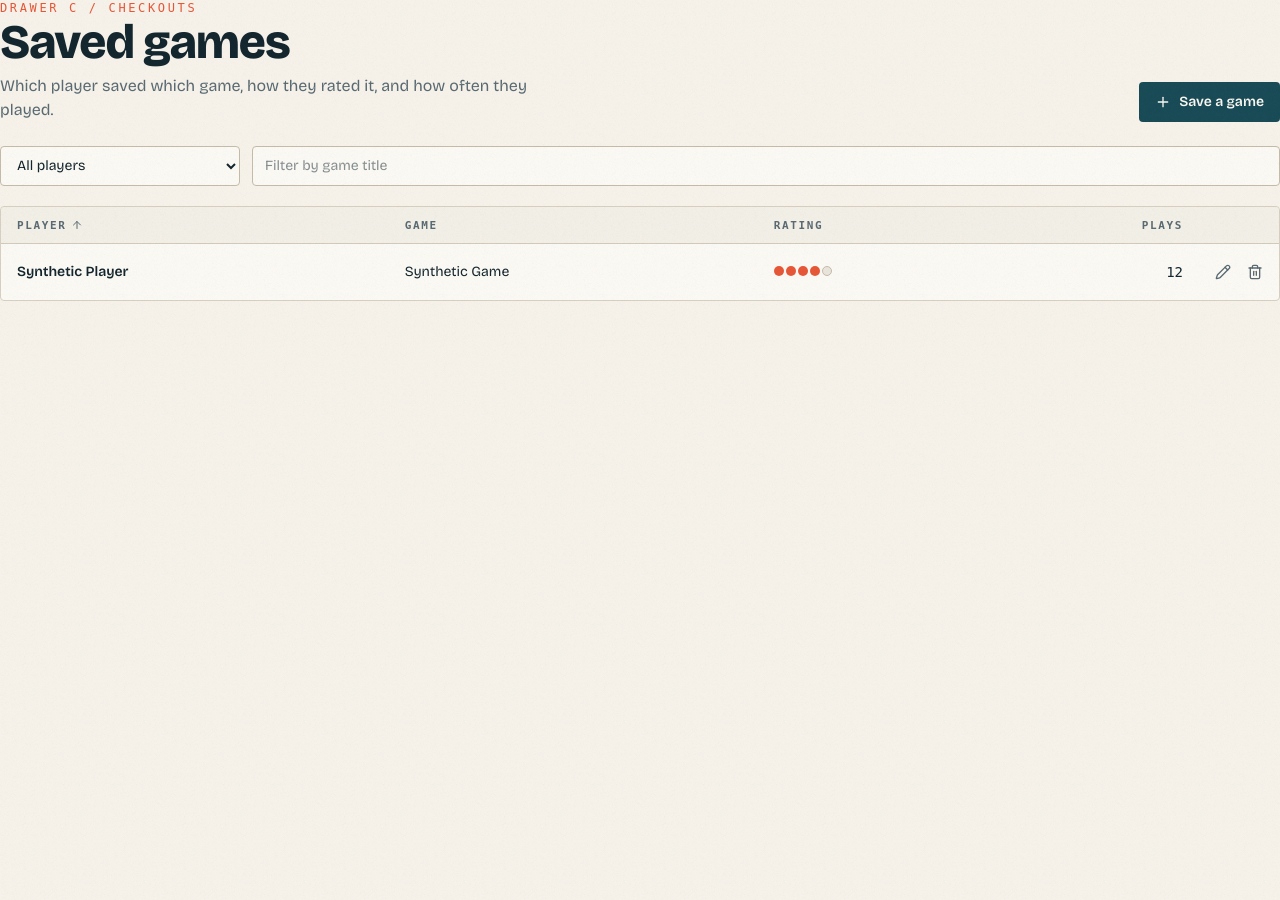
Test: create local validation › rejects play count -1 with failure and no mutation
This screenshot has width=1280, height=900.
Step 1. Click the button with test id "button-add-saved" → coordinates (1210, 102), box [1139,82,1279,122]
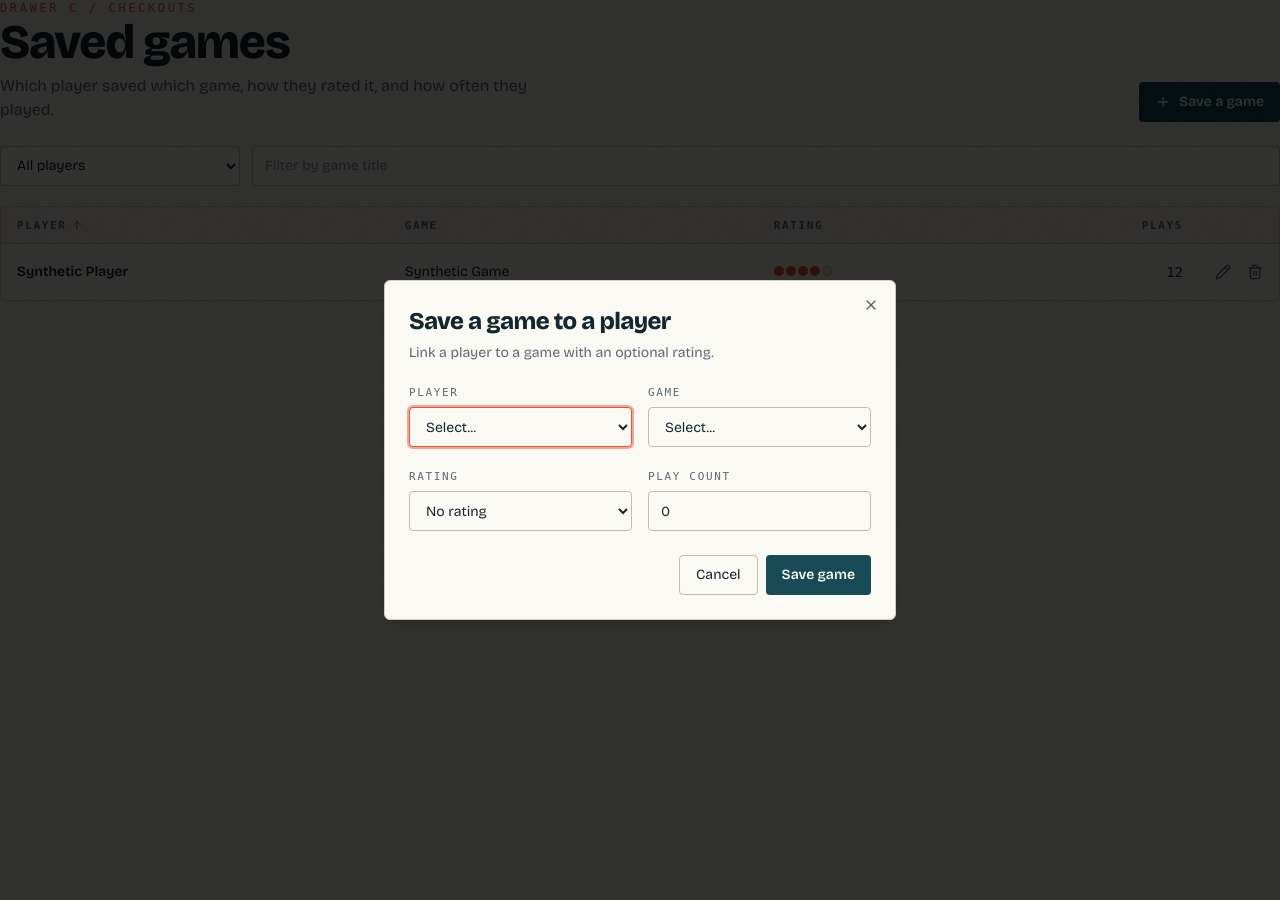
Step 2. Select "Synthetic Player" in the dropdown with test id "select-saved-player" → coordinates (520, 427), box [409,407,632,447]
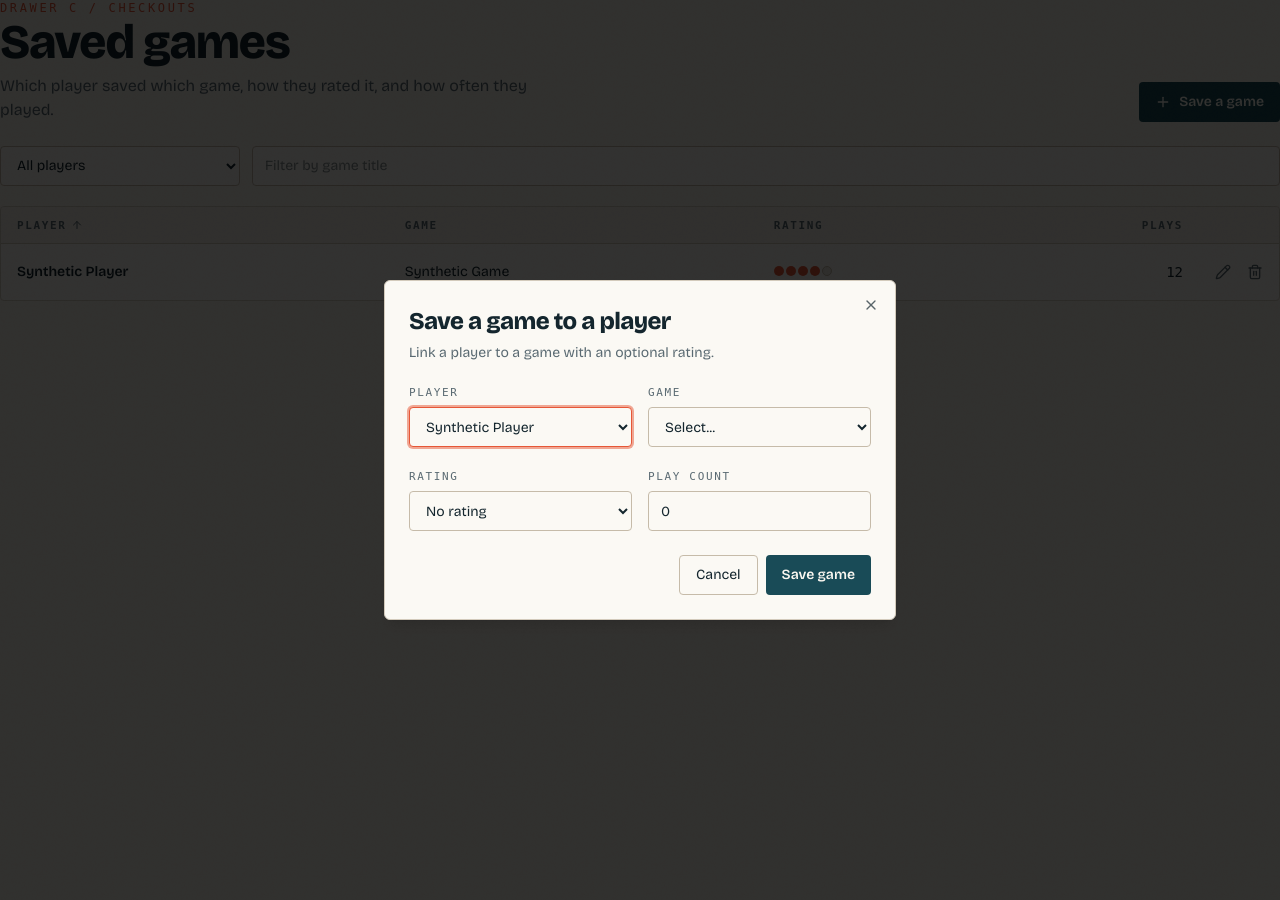
Step 3. Select "Synthetic Game" in the dropdown with test id "select-saved-game" → coordinates (760, 427), box [648,407,871,447]
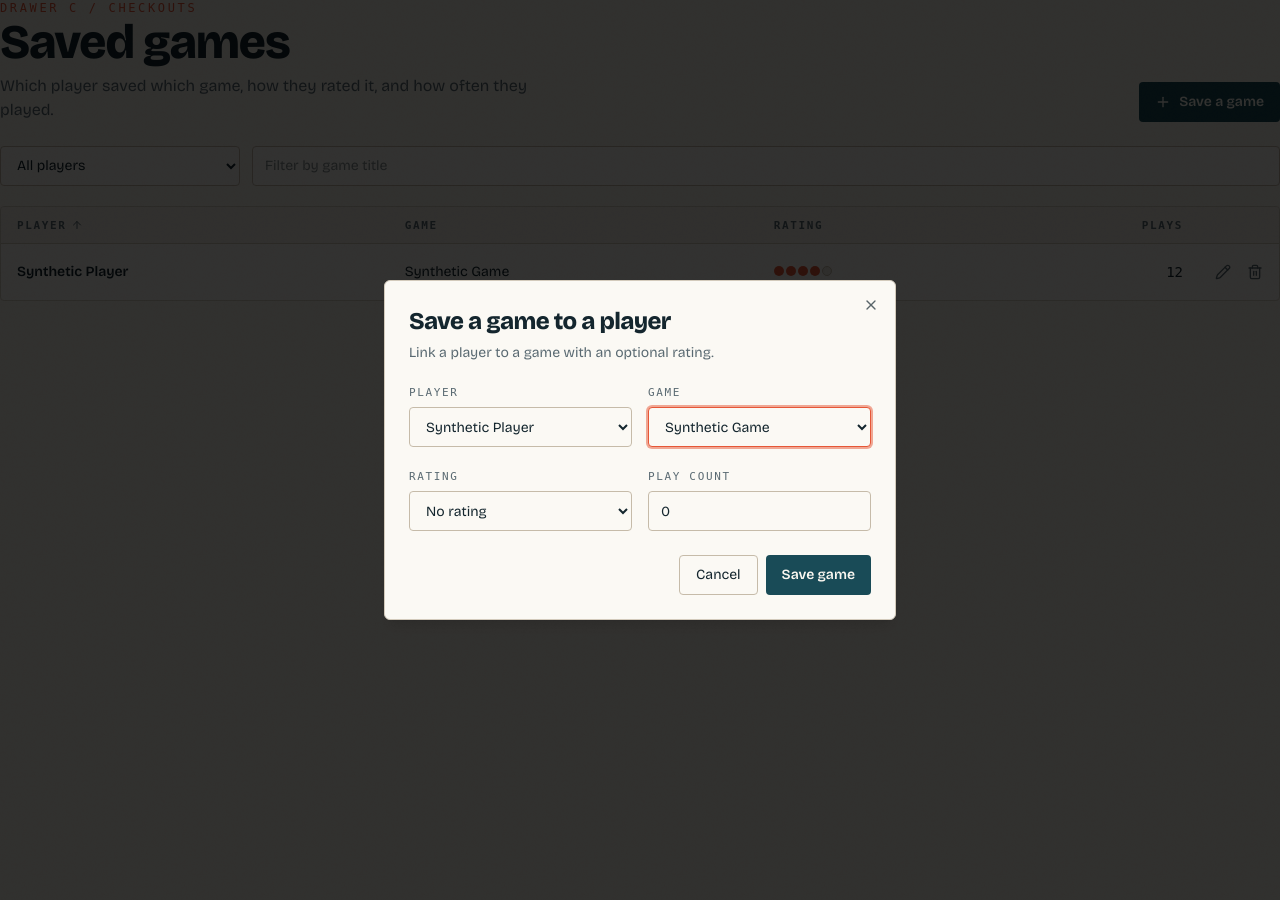
Step 4. Replace the text in the field with test id "input-saved-playcount" with "-1" → coordinates (760, 511), box [648,491,871,531]
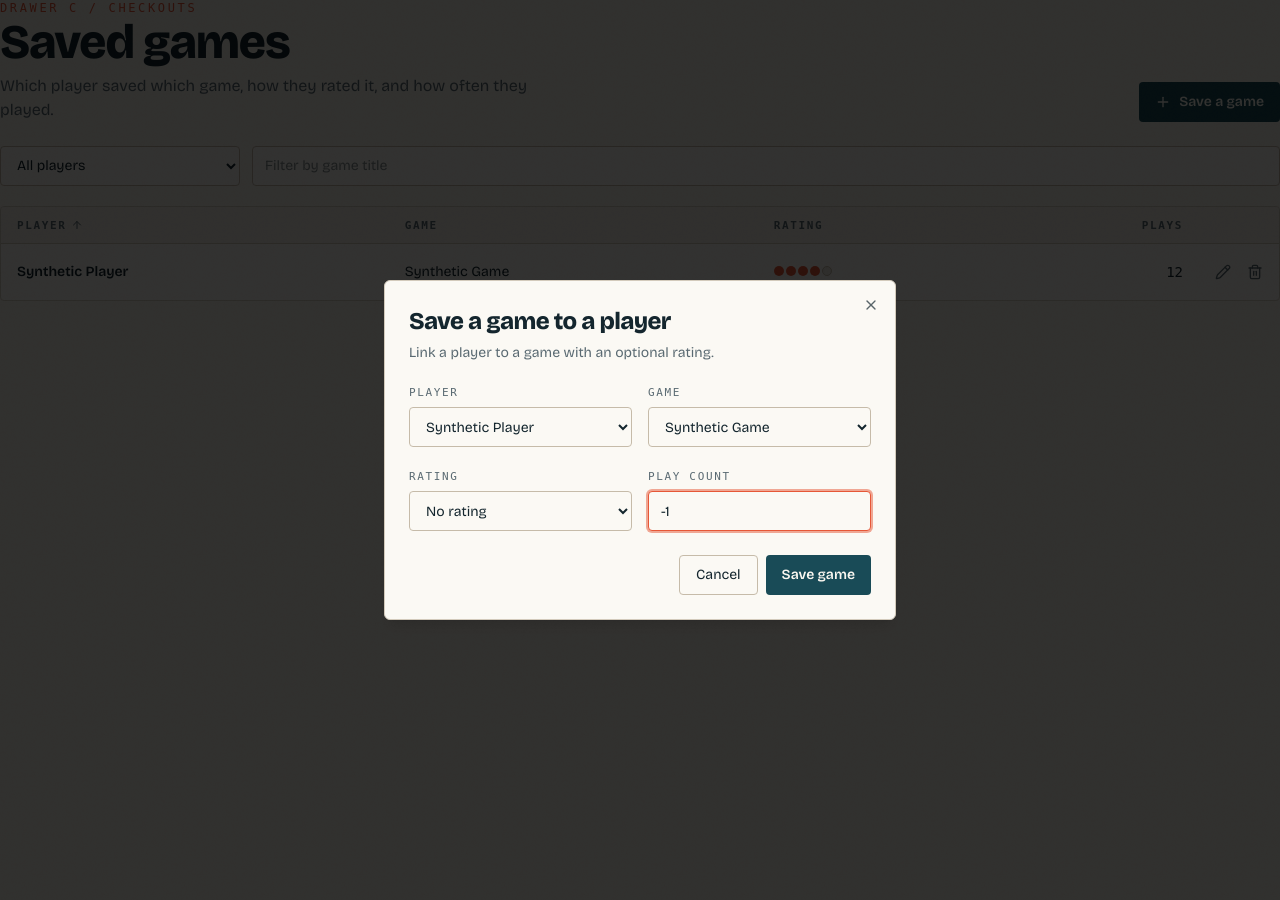
Step 5. Click the button with test id "button-save-saved" → coordinates (818, 575), box [766,555,871,595]
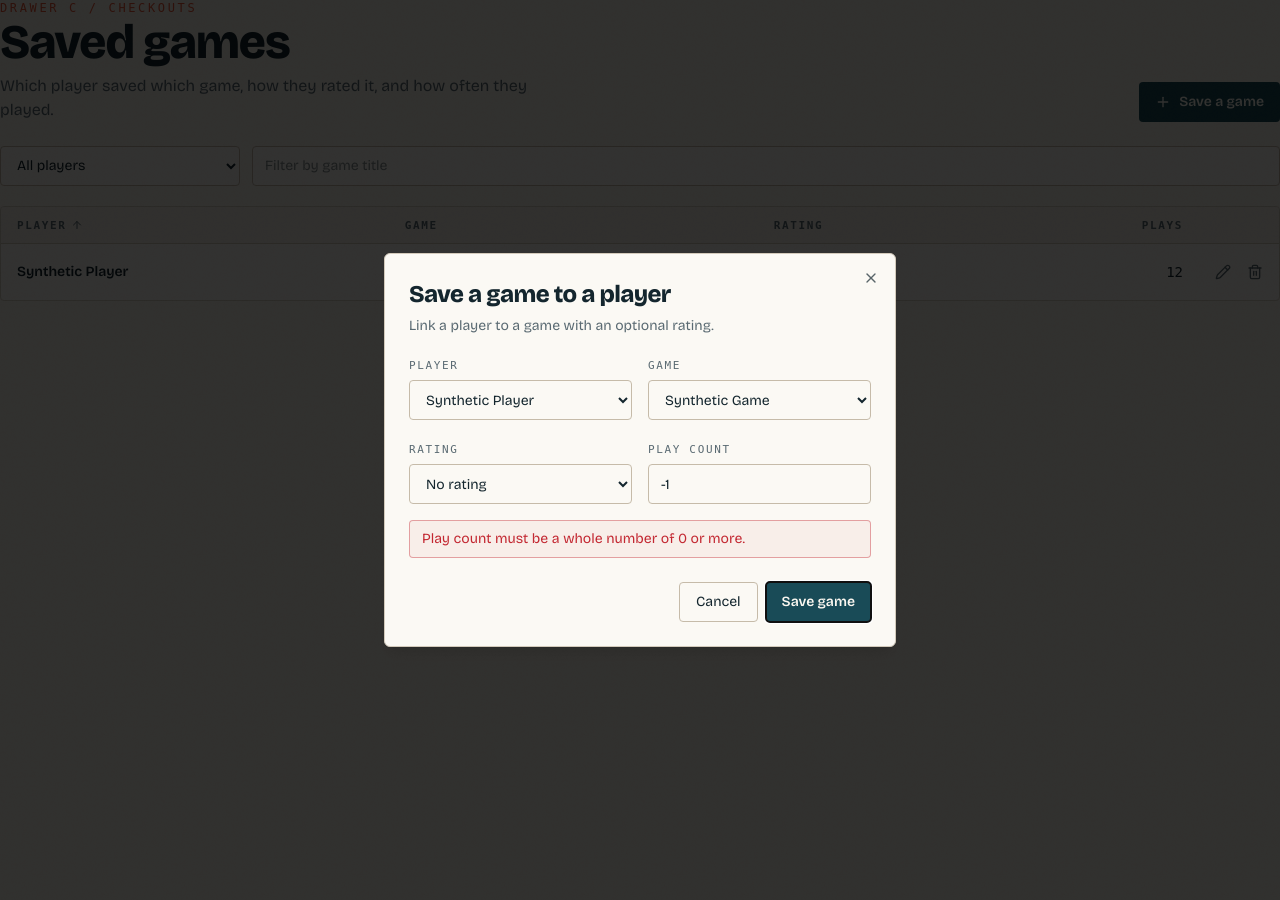
Now the text "Play count must be a whole number of 0 or more." is shown, box [409,520,871,558]
